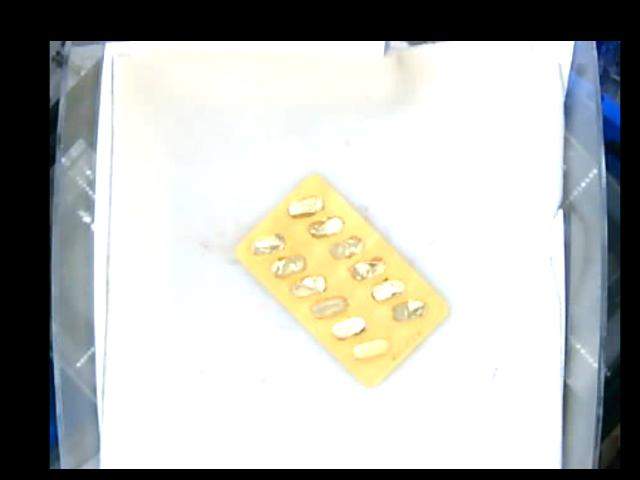Medicine: (243, 172, 446, 387)
